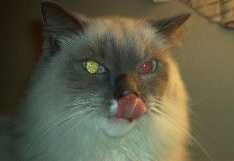Cat: (32, 0, 189, 136)
